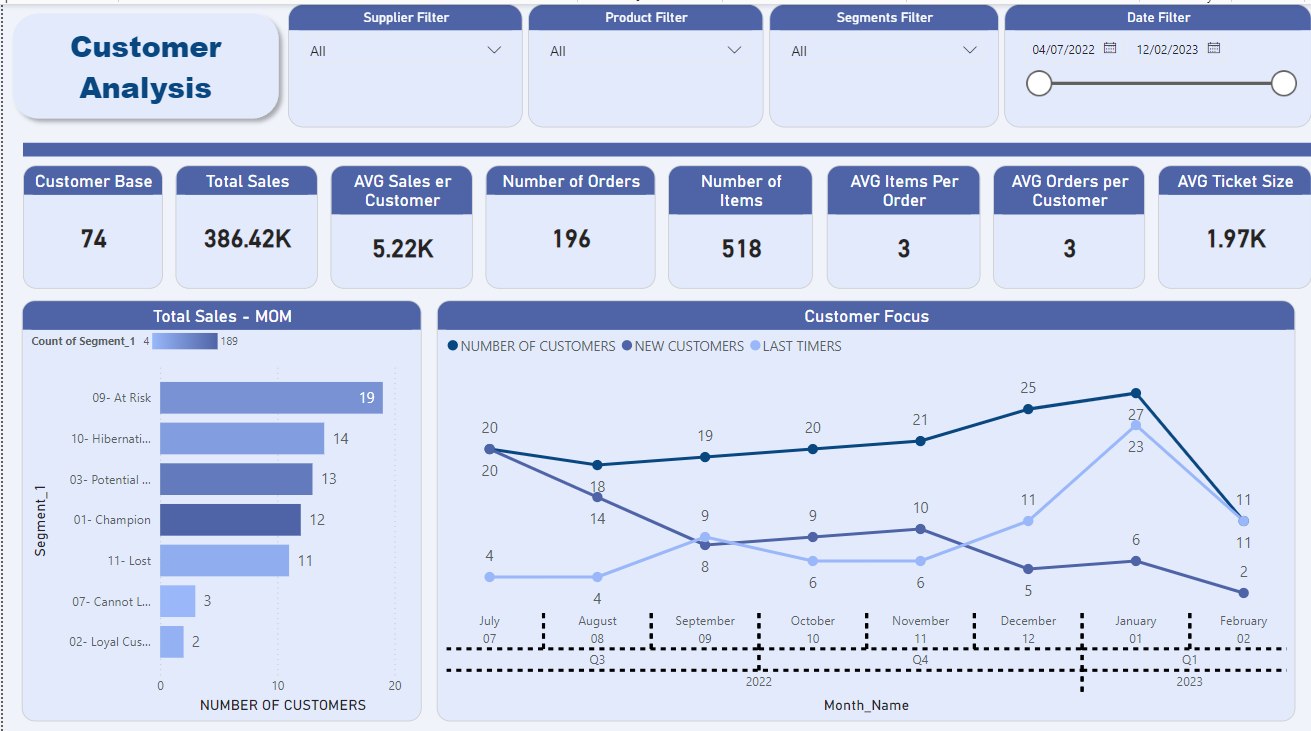

What the dashboard file says about the page in this screenshot:
{"tool":"powerbi","page":{"name":"Customer Focus","canvas":[1280,720],"ordinal":1},"visuals":[{"type":"lineChart","title":"Customer Focus","fields":{"Category":["DimDate.YEAR Hierarchy.YEAR","DimDate.YEAR Hierarchy.Quarter","DimDate.YEAR Hierarchy.MONTH_NUMBER_FORMAT","DimDate.YEAR Hierarchy.Month_Name","DimDate.YEAR Hierarchy.WEEK NUMBER MONTHLY","DimDate.YEAR Hierarchy.DAY"],"Y":["_KEY MEASURES.NUMBER OF CUSTOMERS","_KEY MEASURES.NEW CUSTOMERS","_KEY MEASURES.LAST TIMERS"]},"box":[424,289.4,839.9,411.9],"z":0},{"type":"clusteredBarChart","title":"Total Sales - MOM","fields":{"Category":["Order_Details Data (Fact).Segment_1"],"Y":["_KEY MEASURES.NUMBER OF CUSTOMERS"]},"box":[18.3,289.8,391.3,412.1],"z":1000},{"type":"shape","box":[19.3,135.7,1260.7,13.5],"z":2000},{"type":"slicer","title":"Date Filter","fields":{"Values":["DimDate.Date"]},"box":[979.5,0,300.5,120.6],"z":3000},{"type":"slicer","title":"Segments Filter","fields":{"Values":["Order_Details Data (Fact).Segment_1"]},"box":[749.6,0,224.5,120.6],"z":4000},{"type":"slicer","title":"Product Filter","fields":{"Values":["Dim - Products.ProductName"]},"box":[514.1,0,230,120.6],"z":5000},{"type":"slicer","title":"Supplier Filter","fields":{"Values":["Dim - Suppliers.Supplier Names"]},"box":[278.8,0,229.9,121.1],"z":6000},{"type":"card","title":"Customer Base","fields":{"Values":["_KEY MEASURES.NUMBER OF CUSTOMERS"]},"box":[19.6,157.7,137,121.1],"z":7000},{"type":"card","title":"Total Sales","fields":{"Values":["_KEY MEASURES.TOTAL SALES"]},"box":[168.9,157.7,139.4,121.1],"z":8000},{"type":"card","title":"Number of Orders","fields":{"Values":["_KEY MEASURES.NUMBER OF ORDERS"]},"box":[472.4,157.7,166.3,121.1],"z":9000},{"type":"card","title":"Number of Items","fields":{"Values":["_KEY MEASURES.NUMBER OF ITEMS"]},"box":[651.1,157.7,141.8,121.1],"z":10000},{"type":"card","title":"AVG Items Per Order","fields":{"Values":["_KEY MEASURES.AVG ITEMS PER ORDER"]},"box":[805.3,157.7,150.4,121.1],"z":11000},{"type":"card","title":"AVG Orders per Customer","fields":{"Values":["_KEY MEASURES.AVG ORDERS PER CUSTOMER"]},"box":[968,157.7,149.2,121.1],"z":12000},{"type":"card","title":"AVG Ticket Size","fields":{"Values":["_KEY MEASURES.AVG SALES PER ORDER"]},"box":[1129.6,157.7,150.4,121.1],"z":13000},{"type":"card","title":"AVG Sales er Customer","fields":{"Values":["_KEY MEASURES.AVG SALES PER CUSTOMER"]},"box":[320.6,157.7,139.4,121.1],"z":14000},{"type":"shape","box":[0,0,278.8,121.1],"z":15000}]}

Visuals, with their boxes in screenshot pixels (x1, y1, x2, y2), scaled from the page's 1280x720 canvas onto the 1311x731 screenshot:
"Customer Focus" lineChart: (434,294,1295,712)
"Total Sales - MOM" clusteredBarChart: (19,294,420,713)
shape: (20,138,1310,151)
"Date Filter" slicer: (1003,0,1310,122)
"Segments Filter" slicer: (768,0,998,122)
"Product Filter" slicer: (527,0,762,122)
"Supplier Filter" slicer: (286,0,521,123)
"Customer Base" card: (20,160,160,283)
"Total Sales" card: (173,160,316,283)
"Number of Orders" card: (484,160,654,283)
"Number of Items" card: (667,160,812,283)
"AVG Items Per Order" card: (825,160,979,283)
"AVG Orders per Customer" card: (991,160,1144,283)
"AVG Ticket Size" card: (1157,160,1310,283)
"AVG Sales er Customer" card: (328,160,471,283)
shape: (0,0,286,123)
